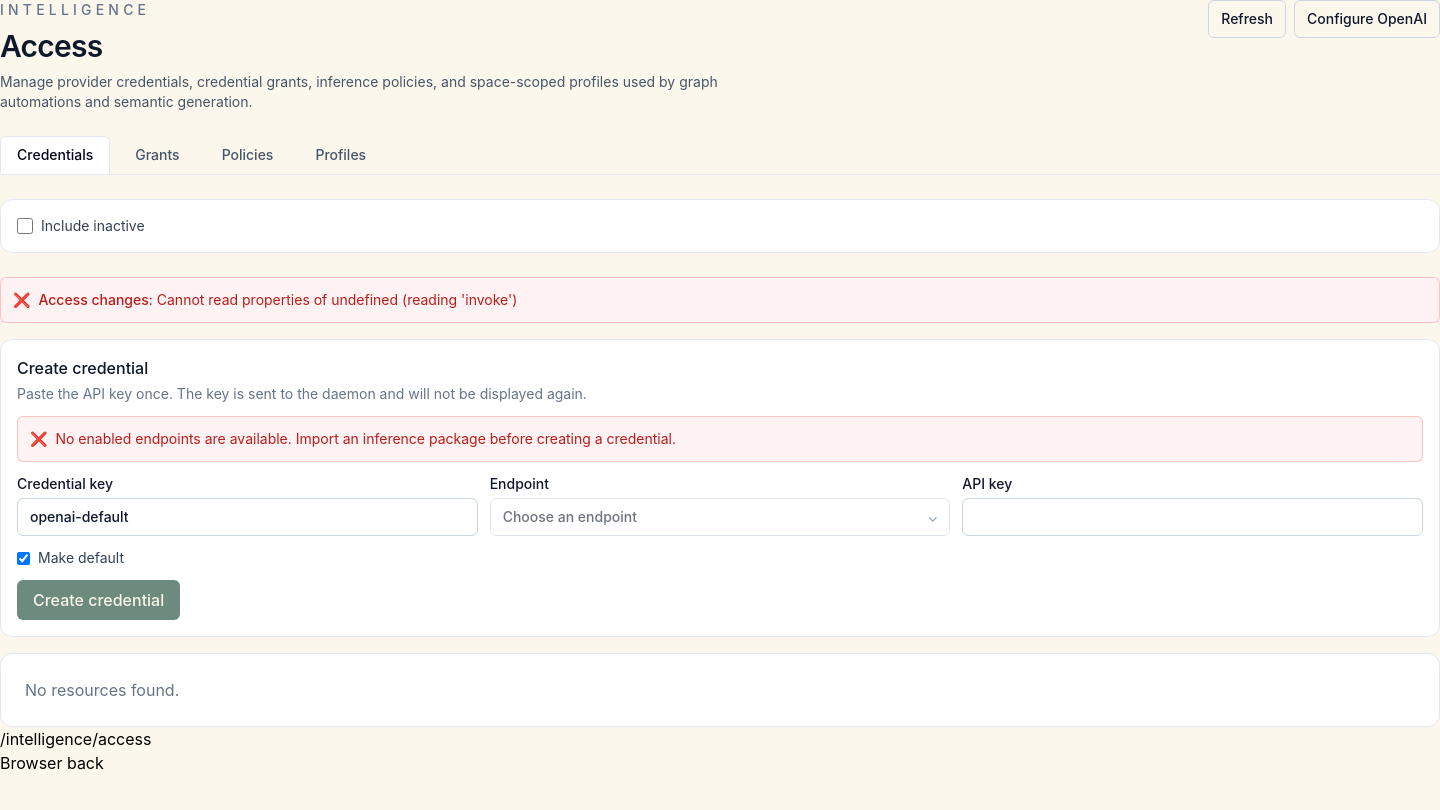
uses a supported concrete OpenAI model in the setup wizard
Click the button "Configure OpenAI" at (1367, 19), box [1294,0,1439,38]
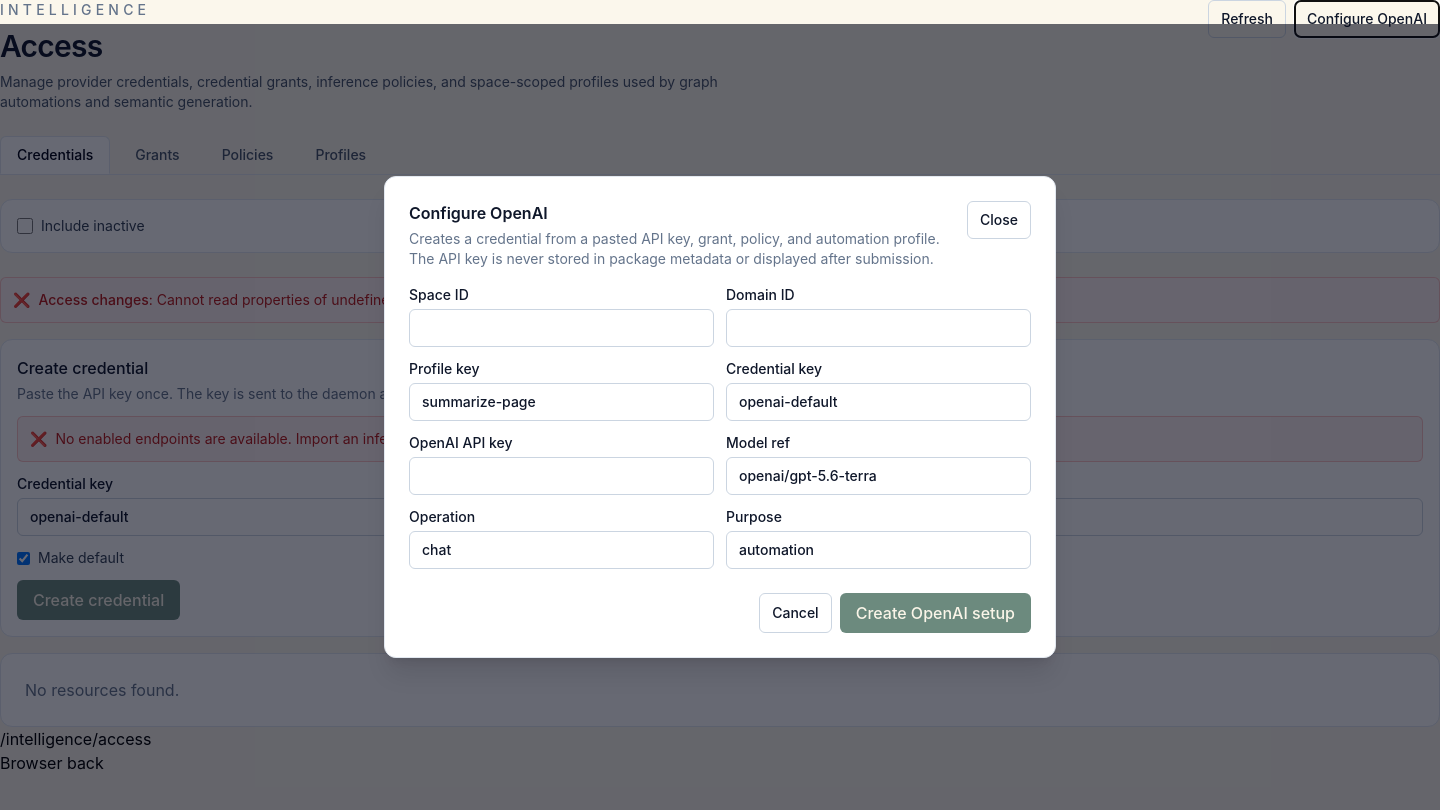
Expected: the field labelled "Model ref" holds "openai/gpt-5.6-terra", [726,457,1031,495]
